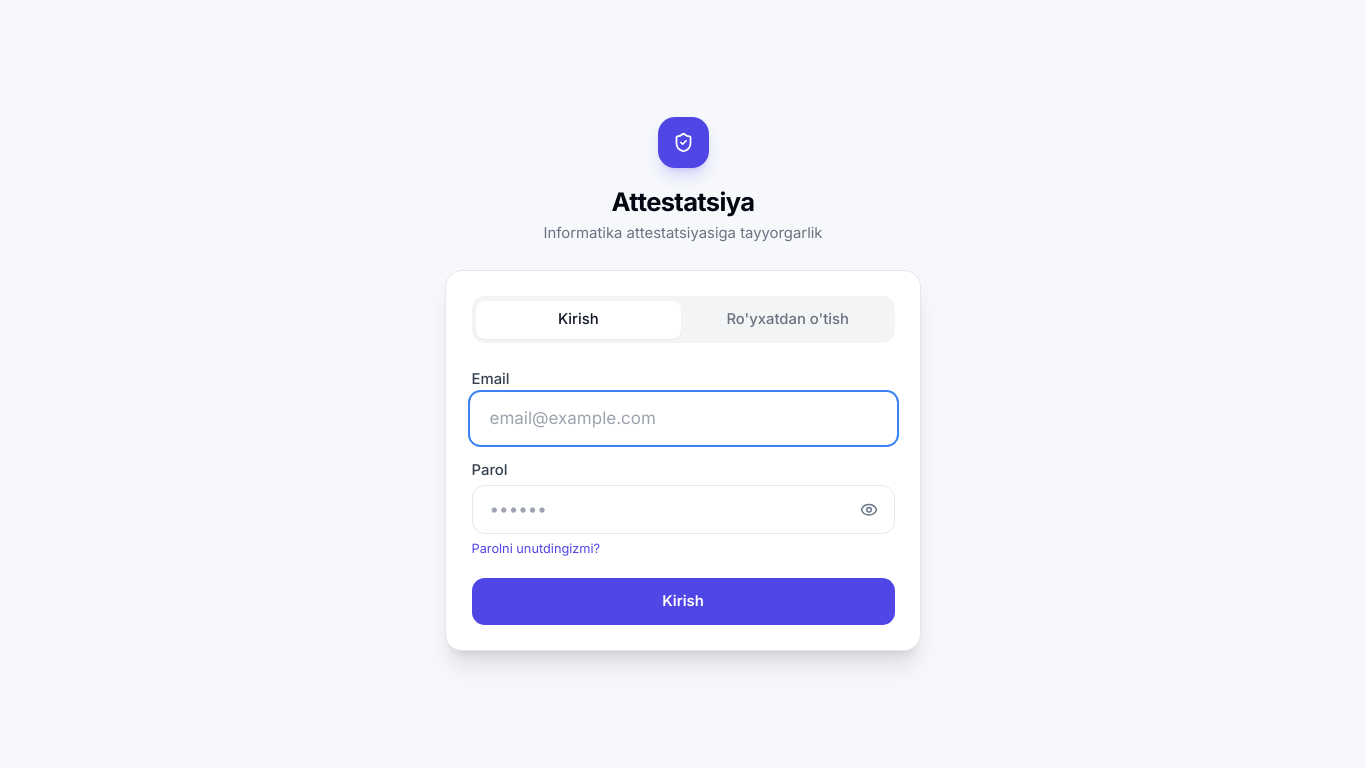
Test: Auth sahifasi › parolni tiklash modal: resetPassword chaqiriladi
Click the button "Parolni unutdingizmi?": [536, 549] box [472,540,600,557]
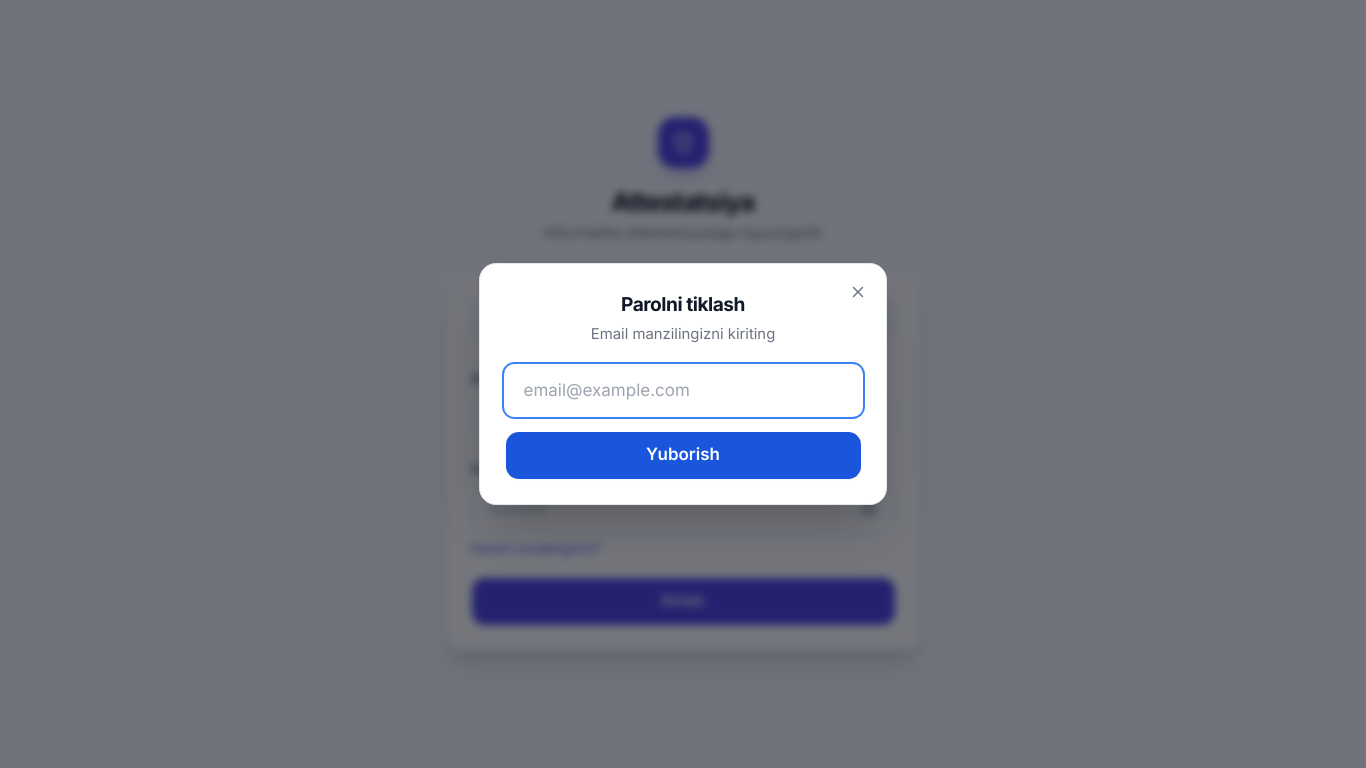
In the field named "Tiklash emaili": [683, 390] box [506,366,860,415], type "test@test.com"
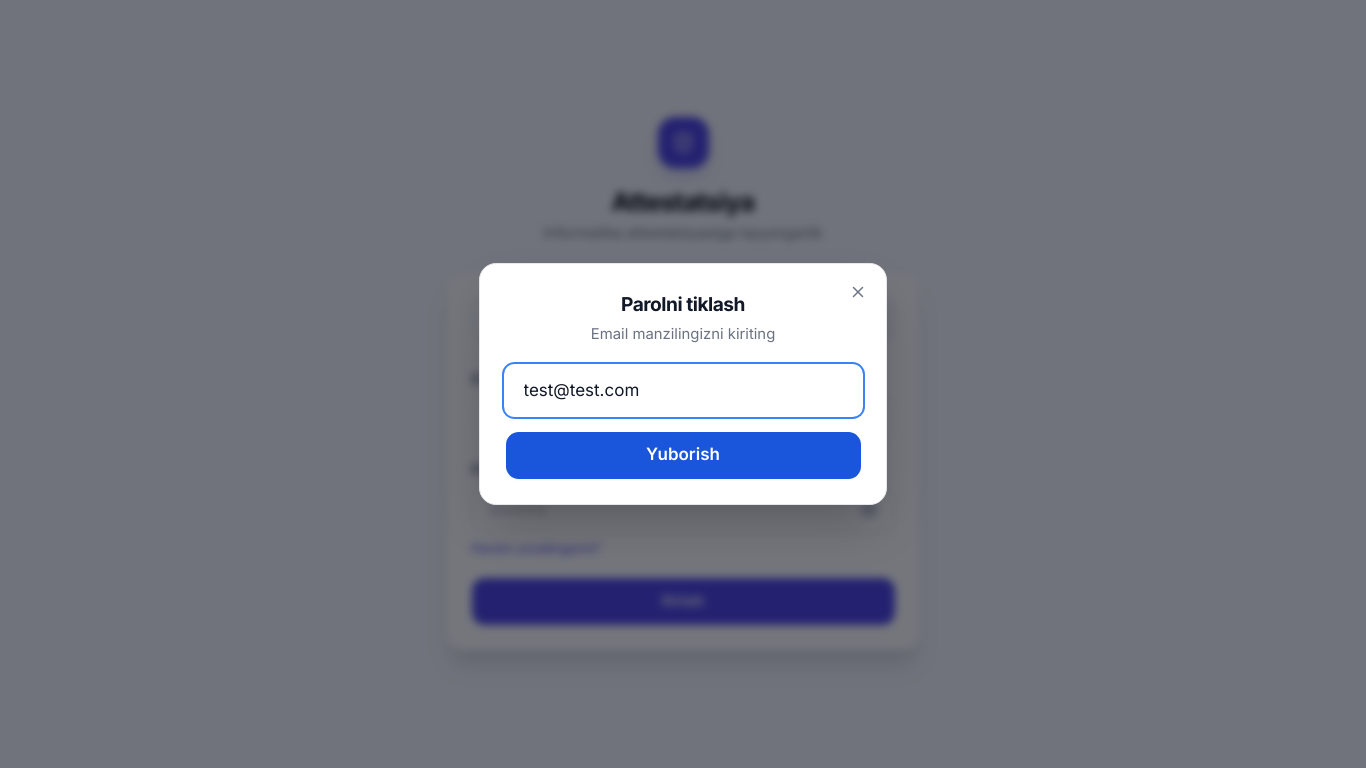
Submit the form named "Tiklash emaili", box [506,366,860,478]
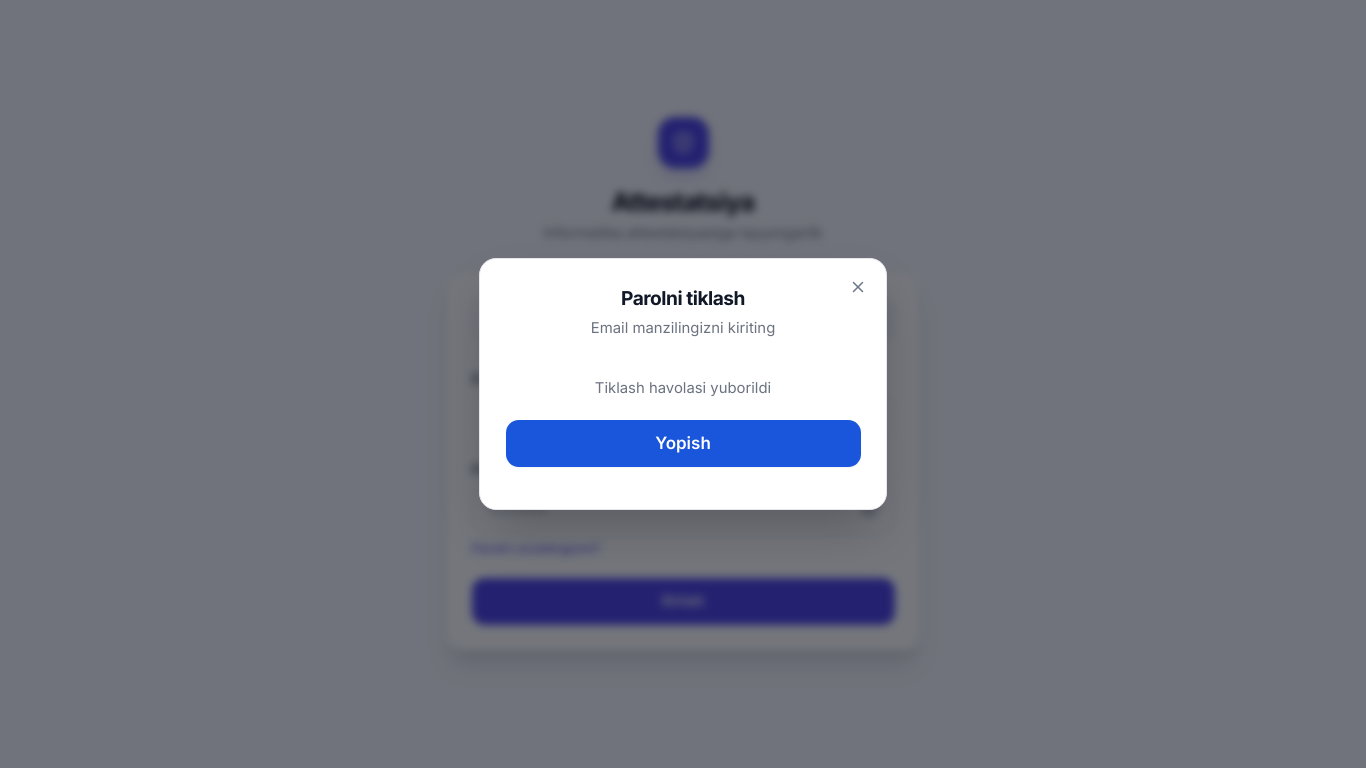
Now the text "Tiklash havolasi yuborildi" is shown, box [595,379,771,397]
